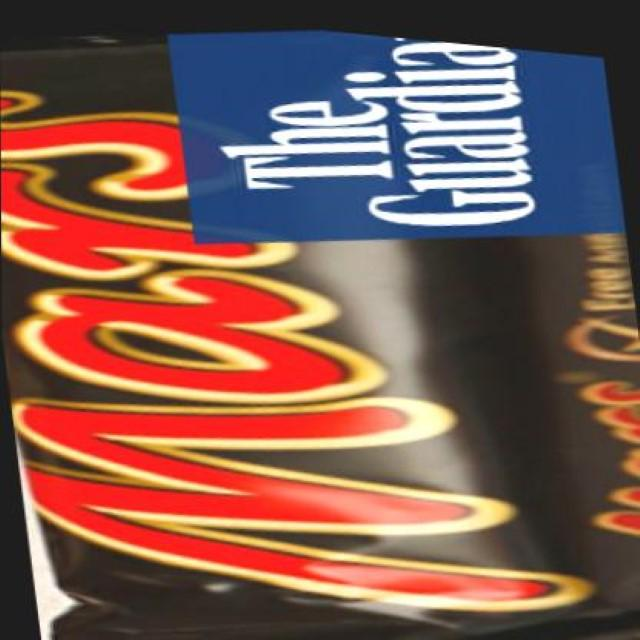mars_chocolate: (16, 61, 640, 640)
